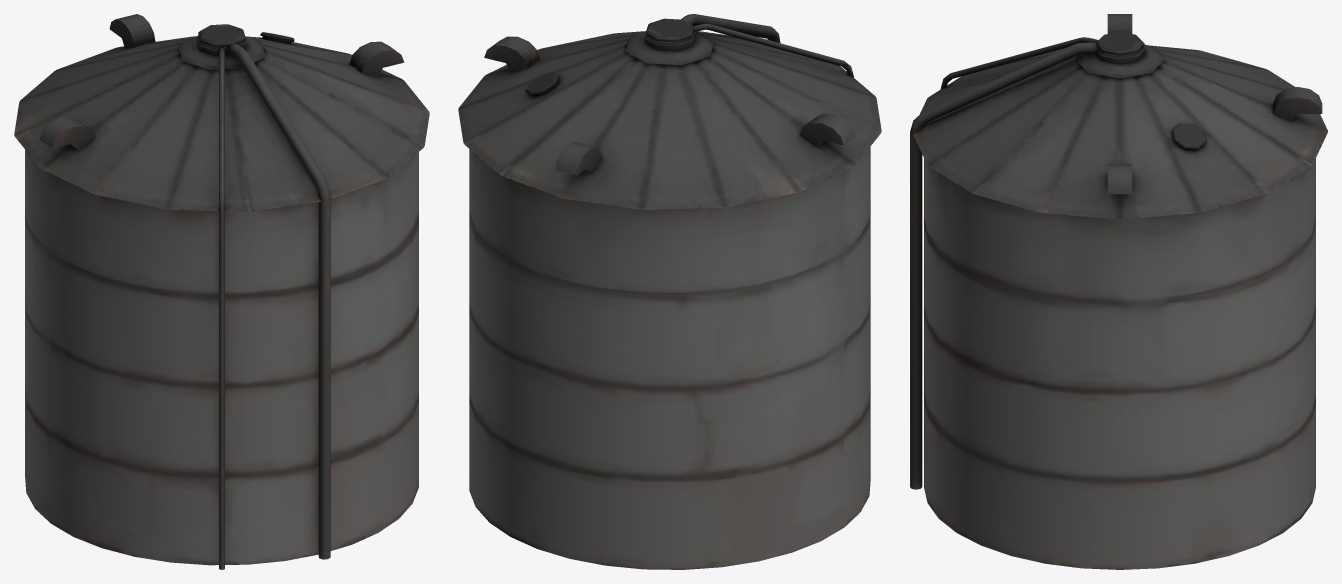
The picture shows the model from 3 angles, left to right: view 1: azimuth 30°, elevation 25°; view 2: azimuth 150°, elevation 25°; view 3: azimuth 270°, elevation 25°; orthographic projection. The views are drawn at different scales.
Parts seen in each view (by area): view 1: body0_model0_lod0_mesh0; view 2: body0_model0_lod0_mesh0; view 3: body0_model0_lod0_mesh0.
Boxes of the visible parts, <box> form: body0_model0_lod0_mesh0: <box>14,14,429,569</box>; body0_model0_lod0_mesh0: <box>458,14,881,569</box>; body0_model0_lod0_mesh0: <box>910,14,1327,569</box>.
Bounding box in the file's own units: 33.92 × 40.13 × 34.09.
Materials: 1 (1 with a texture image).
